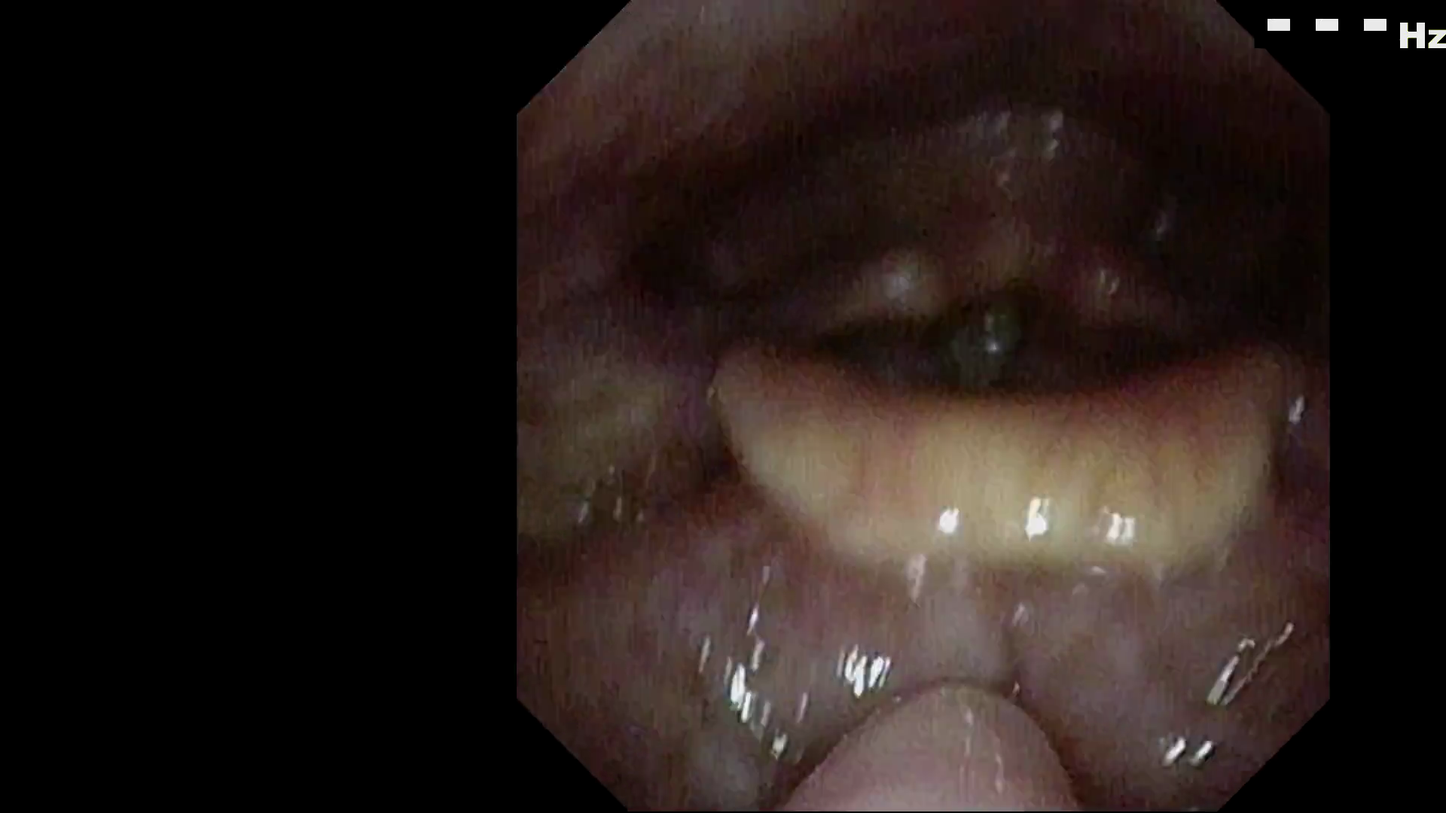epiglottis: (663, 496, 1221, 701)
trachea: (905, 437, 987, 541)
